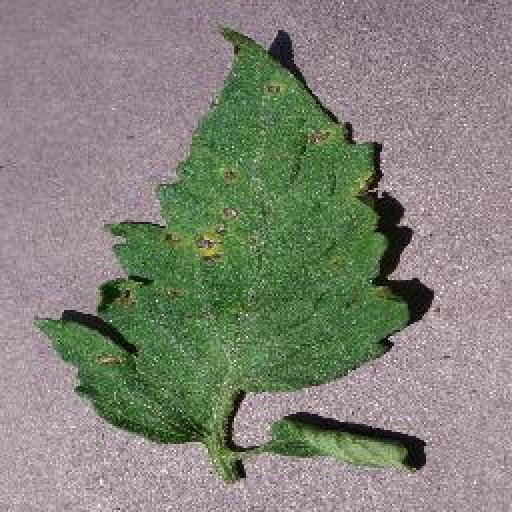Septoria: (26, 19, 414, 445)
